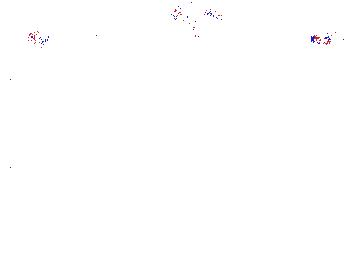X-ray fish: (211, 210, 263, 247), (57, 92, 94, 117)
glassfish: (277, 177, 346, 223)
red belly glassfish: (309, 32, 346, 48), (26, 30, 51, 48)
redtail glassfish: (169, 3, 223, 24)
